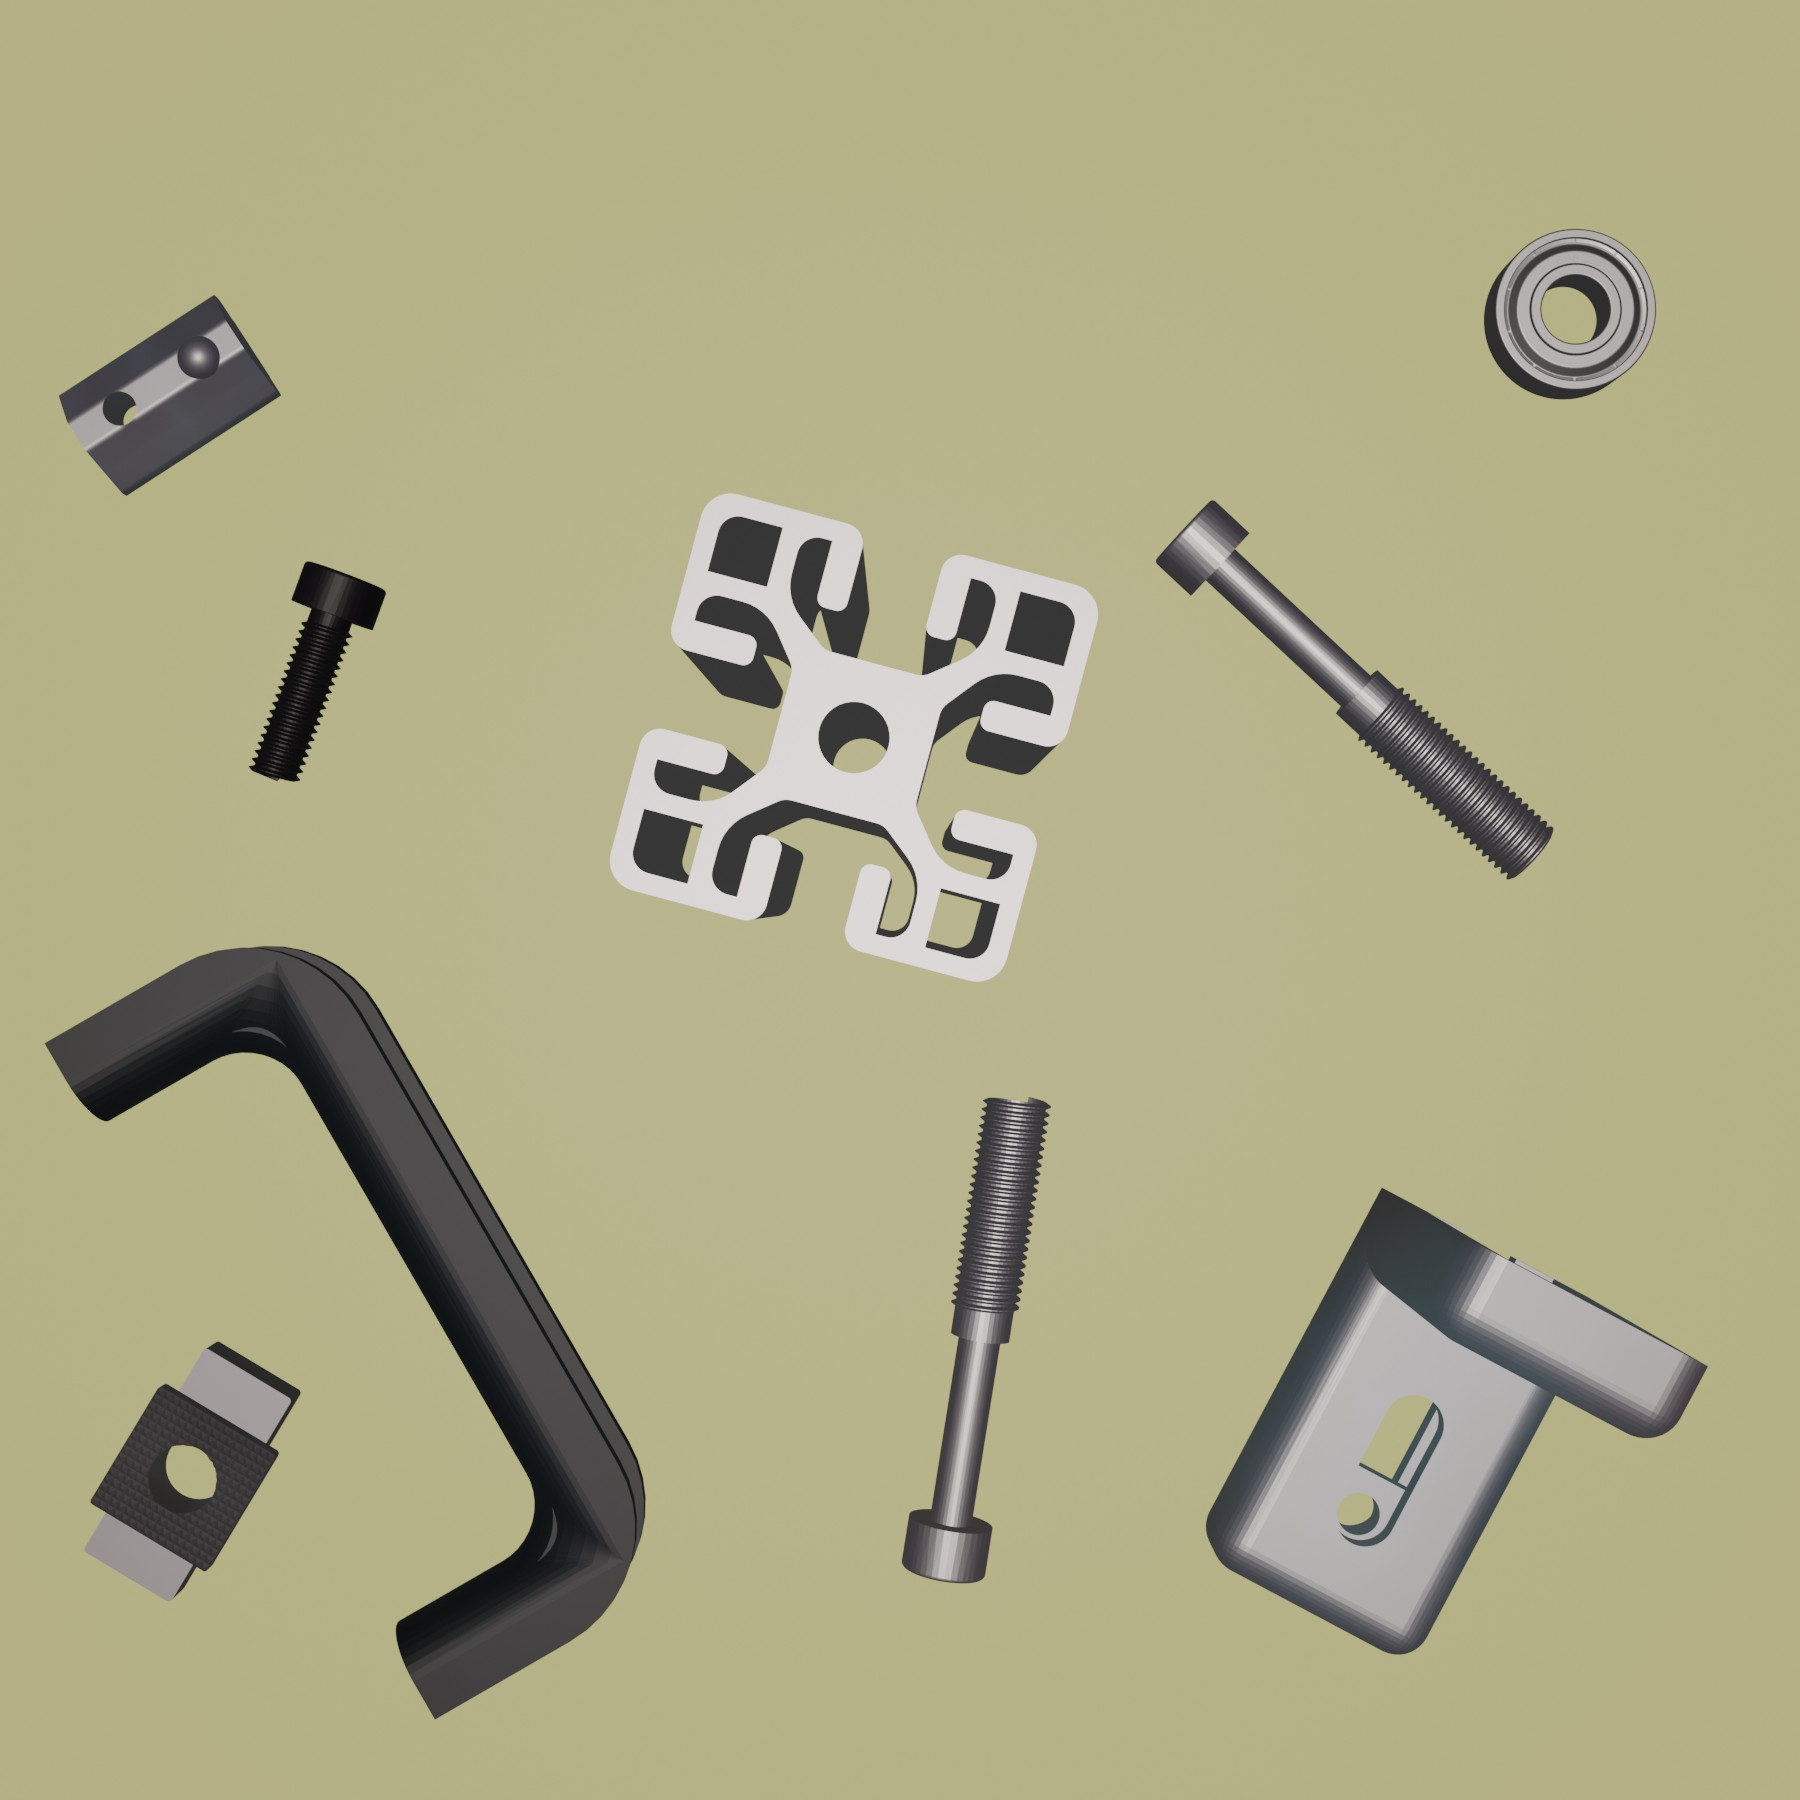Aluminium Extension: (608, 490, 1101, 986)
Ball Bearing: (1482, 226, 1658, 401)
Multiwinkel: (1203, 1180, 1714, 1657)
Pull Handle: (48, 940, 648, 1719)
Shoulder Socket Head Cap Screw: (1152, 499, 1554, 880), (900, 1091, 1053, 1586)
Socket Head Cap Screw: (247, 559, 386, 785)
T Nut Square: (86, 1338, 302, 1605)
T Spring Nut: (54, 288, 282, 498)
